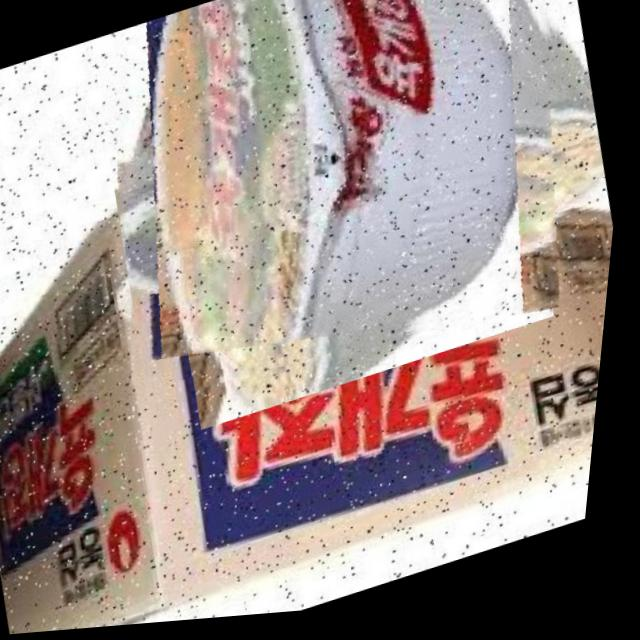Miscellaneous: (61, 0, 630, 433)
